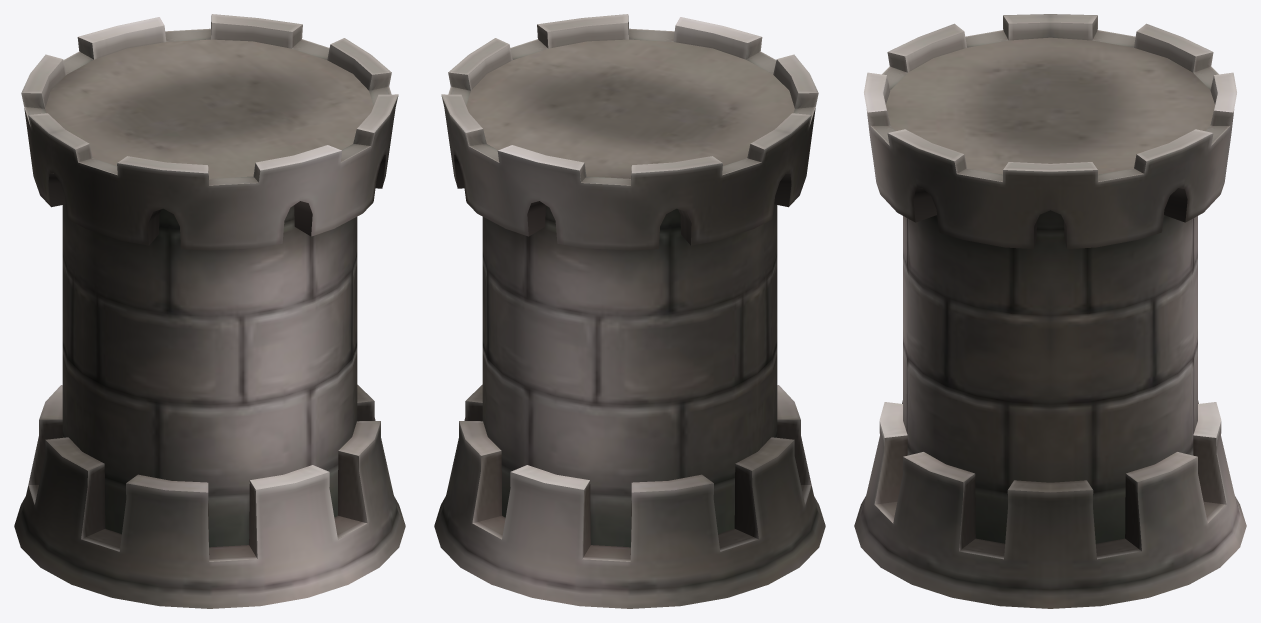
File: brick_ALL.fbx
The picture shows the model from 3 angles, left to right: view 1: azimuth 30°, elevation 25°; view 2: azimuth 150°, elevation 25°; view 3: azimuth 270°, elevation 25°; orthographic projection.
Parts seen in each view (by area): view 1: brick_color; view 2: brick_color; view 3: brick_color.
Boxes of the visible parts, <box> form: brick_color: <box>14,14,405,608</box>; brick_color: <box>434,14,825,608</box>; brick_color: <box>854,14,1246,608</box>.
Size of the model in its own units: 13.08 by 15.93 by 13.08.
1 material, 1 textured.
